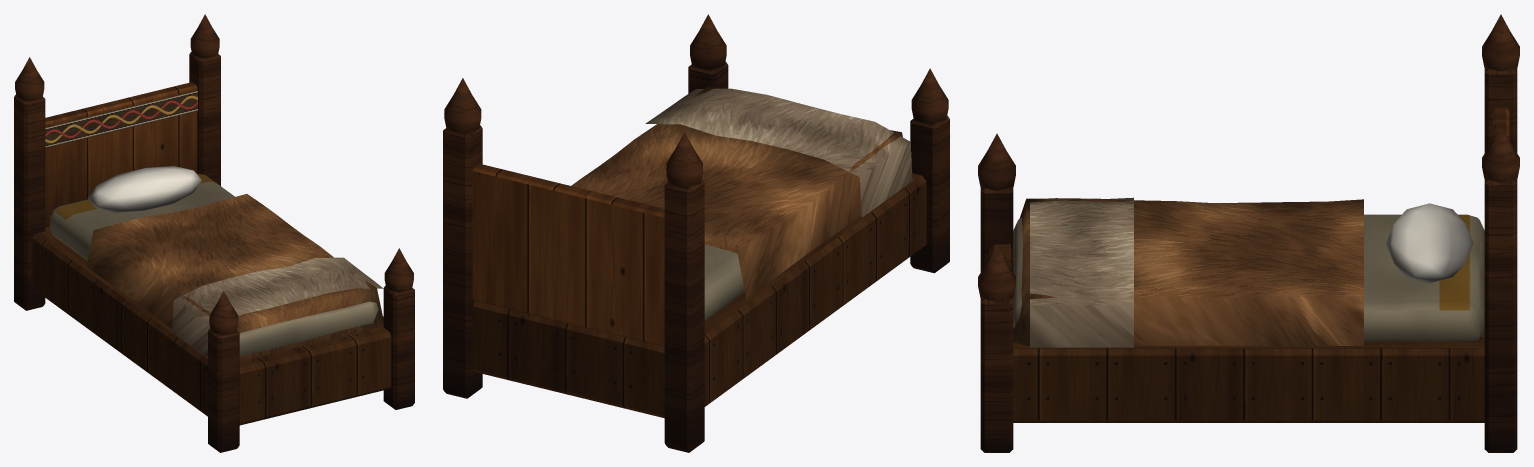
File: interior_bed.glb
3 renders of one model, left to right at view 1: azimuth 30°, elevation 25°; view 2: azimuth 150°, elevation 25°; view 3: azimuth 270°, elevation 25°, orthographic. The views are drawn at different scales.
Parts seen in each view (by area): view 1: interior_bed; view 2: interior_bed; view 3: interior_bed.
Boxes of the visible parts, x1,y1,x2,y2 form: interior_bed: (14,14,414,452); interior_bed: (443,14,949,452); interior_bed: (978,14,1519,452).
Bounding box in the file's own units: 1.12 × 1.3 × 1.98.
6 materials, 5 textured.
